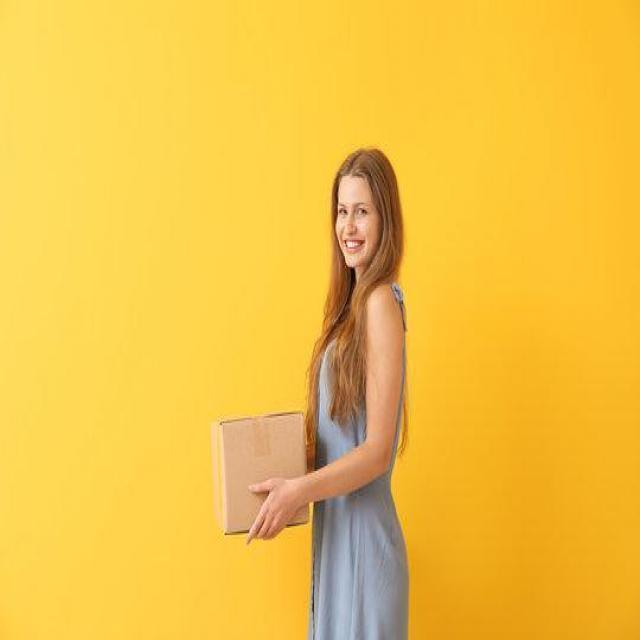box: (214, 406, 312, 538)
